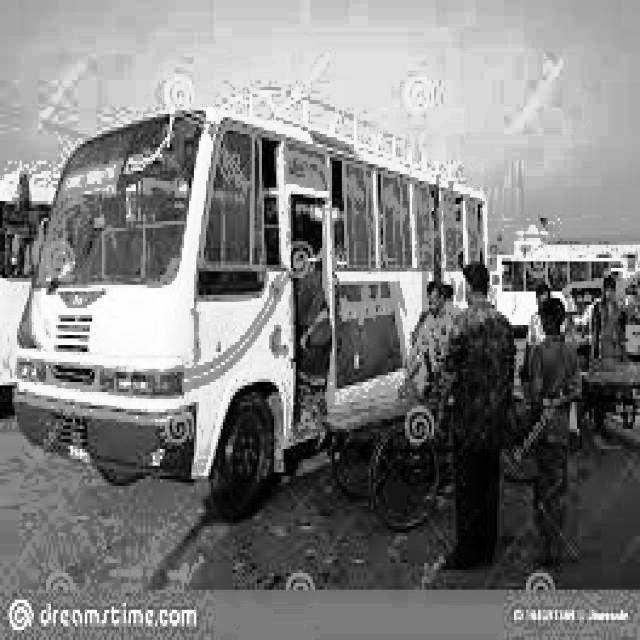Bus: (8, 76, 526, 530)
